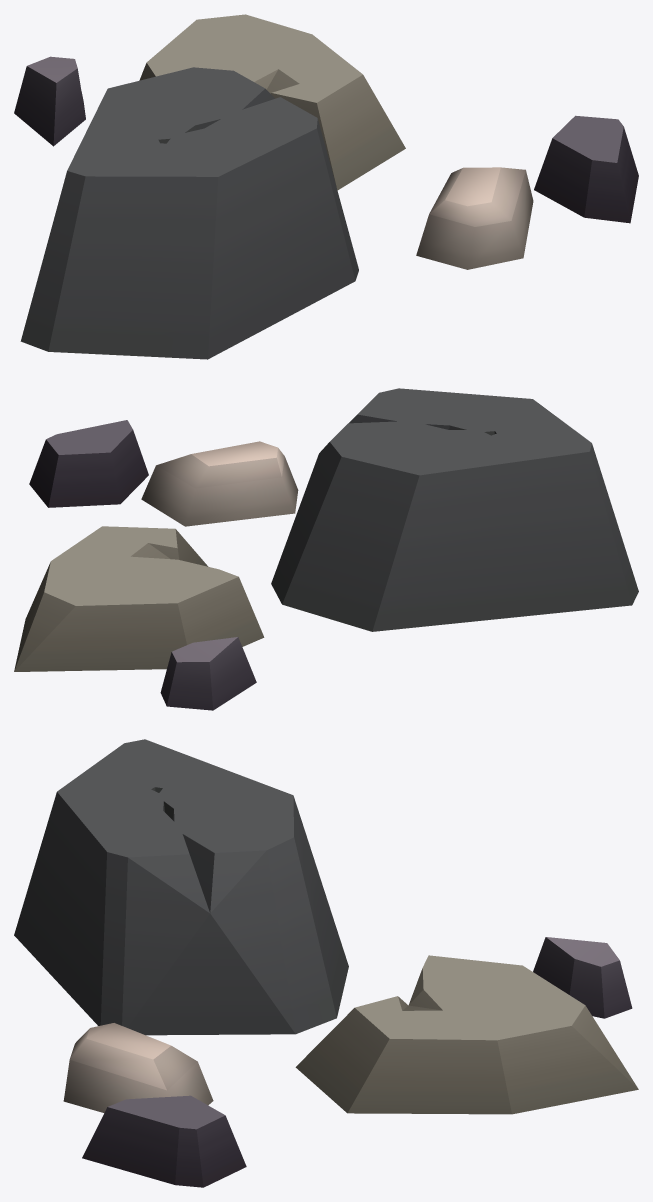
Rendered from Rock_Cluster_2C.fbx.
3 renders of one model, top to bottom at view 1: azimuth 30°, elevation 25°; view 2: azimuth 150°, elevation 25°; view 3: azimuth 270°, elevation 25°, orthographic. The views are drawn at different scales.
Parts seen in each view (by area): view 1: Rock_Cluster_2C; view 2: Rock_Cluster_2C; view 3: Rock_Cluster_2C.
Part boxes in pixels (box(x1,y1,x2,y2)): Rock_Cluster_2C: box(14, 14, 638, 359); Rock_Cluster_2C: box(14, 388, 638, 710); Rock_Cluster_2C: box(14, 739, 638, 1187).
Size of the model in its own units: 253 by 60.25 by 214.
